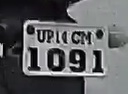0: (46, 45, 67, 75)
1: (25, 43, 45, 72), (90, 47, 104, 75), (54, 29, 61, 45)
4: (61, 30, 70, 47)
9: (69, 49, 87, 75)
C: (70, 29, 81, 45)
M: (81, 31, 92, 47)
P: (46, 29, 55, 45)
U: (35, 27, 46, 45)
